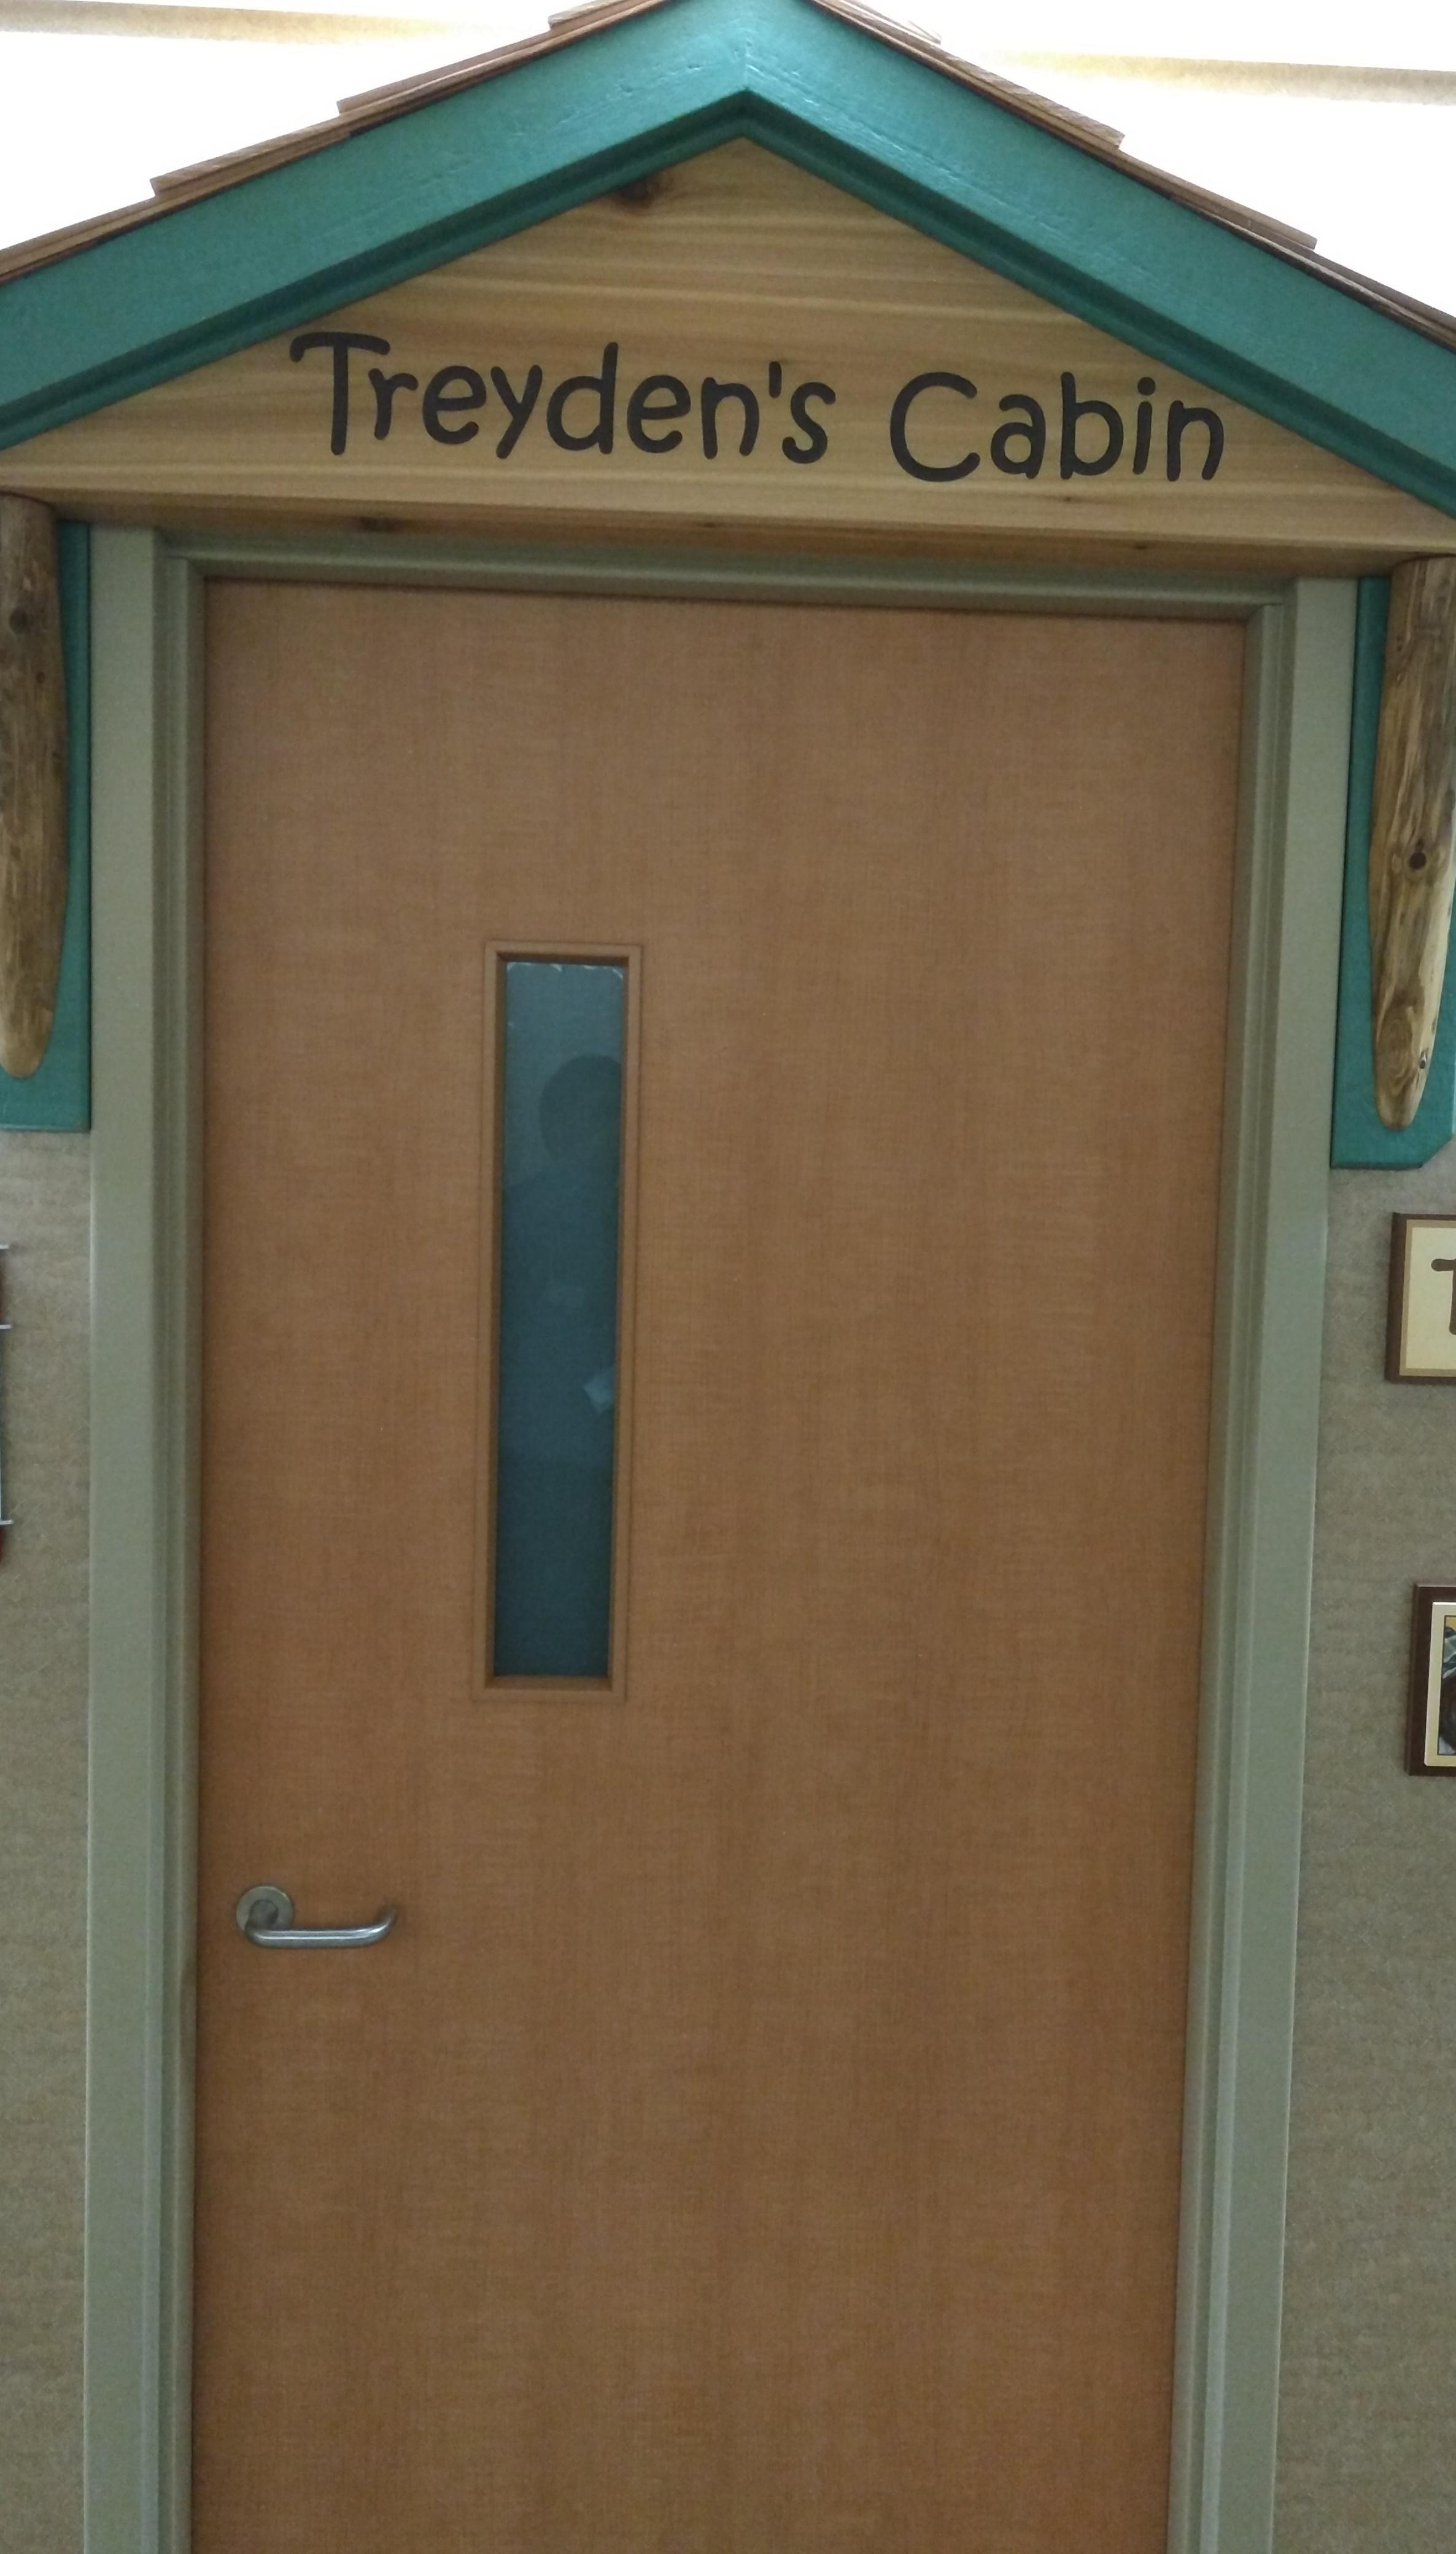door: (139, 524, 1260, 2540)
